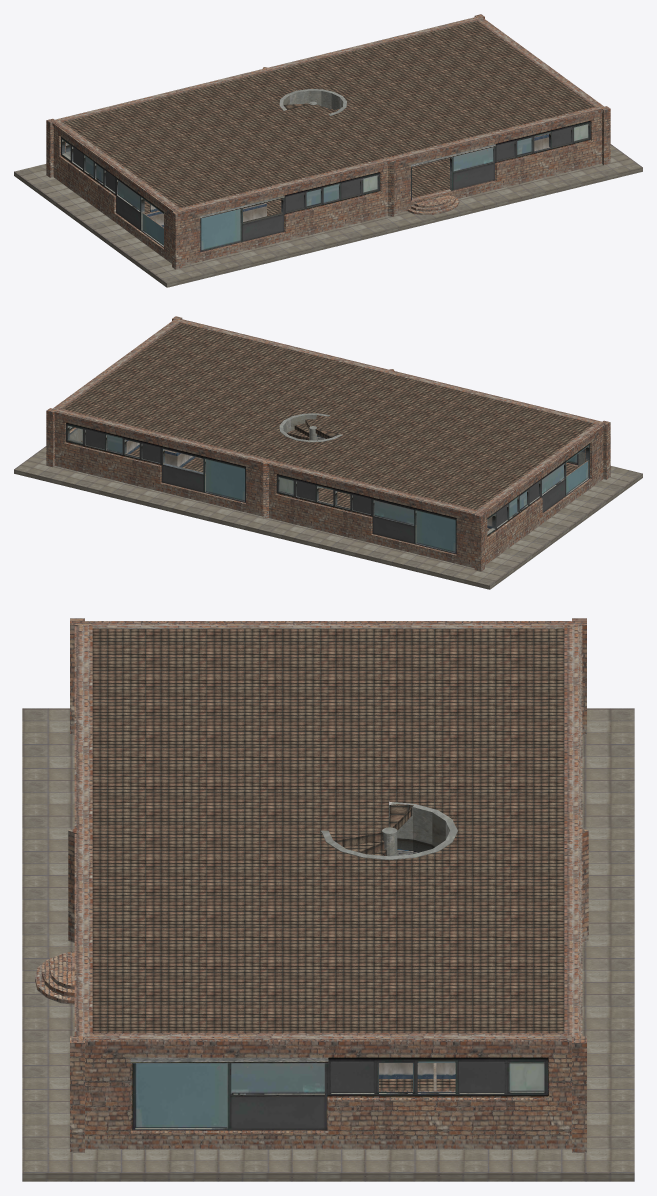
Rendered from BagSS11base_high.fbx.
3 renders of one model, top to bottom at view 1: azimuth 30°, elevation 25°; view 2: azimuth 150°, elevation 25°; view 3: azimuth 270°, elevation 25°, orthographic. The views are drawn at different scales.
Visible parts, largest first — view 1: baseFloor700, baseMain700, baseFound700, baseWalltrim700, baseWallCrete700, baseInnerwalls700; view 2: baseFloor700, baseMain700, baseFound700, baseWallCrete700, baseWalltrim700, baseStairs700, baseInnerwalls700; view 3: baseFloor700, baseMain700, baseFound700, baseWallCrete700, baseWalltrim700, baseStairs700, baseInnerwalls700.
Part boxes in pixels (left/top/right/bottom): baseFloor700: left=62, top=21, right=593, bottom=215; baseMain700: left=46, top=14, right=610, bottom=269; baseFound700: left=14, top=144, right=642, bottom=287; baseWalltrim700: left=62, top=123, right=590, bottom=251; baseWallCrete700: left=62, top=20, right=594, bottom=156; baseInnerwalls700: left=146, top=134, right=548, bottom=227; baseFloor700: left=63, top=323, right=594, bottom=531; baseMain700: left=46, top=316, right=610, bottom=571; baseFound700: left=14, top=446, right=642, bottom=589; baseWallCrete700: left=62, top=322, right=594, bottom=488; baseWalltrim700: left=67, top=426, right=589, bottom=553; baseStairs700: left=287, top=415, right=340, bottom=440; baseInnerwalls700: left=126, top=440, right=492, bottom=528; baseFloor700: left=92, top=629, right=564, bottom=1090; baseMain700: left=35, top=618, right=588, bottom=1152; baseFound700: left=22, top=708, right=634, bottom=1181; baseWallCrete700: left=92, top=628, right=564, bottom=859; baseWalltrim700: left=130, top=1057, right=548, bottom=1129; baseStairs700: left=329, top=804, right=413, bottom=855; baseInnerwalls700: left=379, top=1063, right=455, bottom=1090.
Bounding box in the file's own units: 185 × 22.03 × 103.
